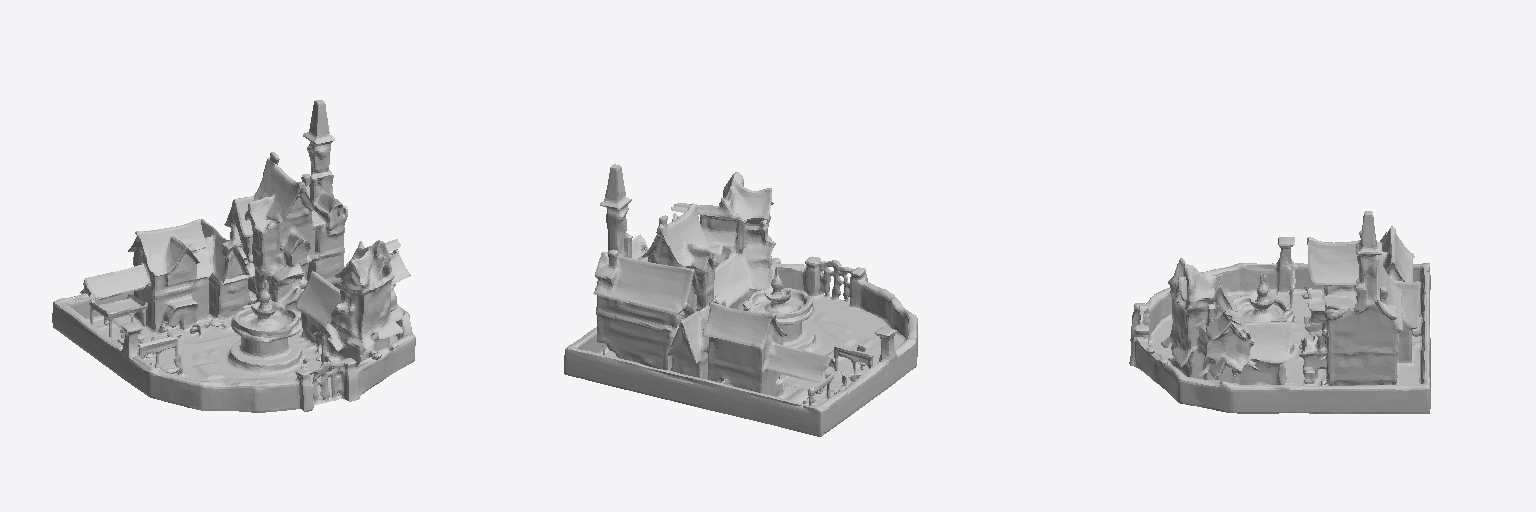
Rendered from A_small_midevil_villa_0919133151_preview.obj.
The picture shows the model from 3 angles: view 1: azimuth 30°, elevation 25°; view 2: azimuth 150°, elevation 25°; view 3: azimuth 270°, elevation 25°; orthographic projection.
Parts seen in each view (by area): view 1: Mesh1; view 2: Mesh1; view 3: Mesh1.
Boxes of the visible parts, x1,y1,x2,y2 form: Mesh1: [52, 100, 415, 412]; Mesh1: [564, 164, 917, 436]; Mesh1: [1129, 211, 1430, 413].
Bounding box in the file's own units: 1.99 × 1.41 × 2.01.